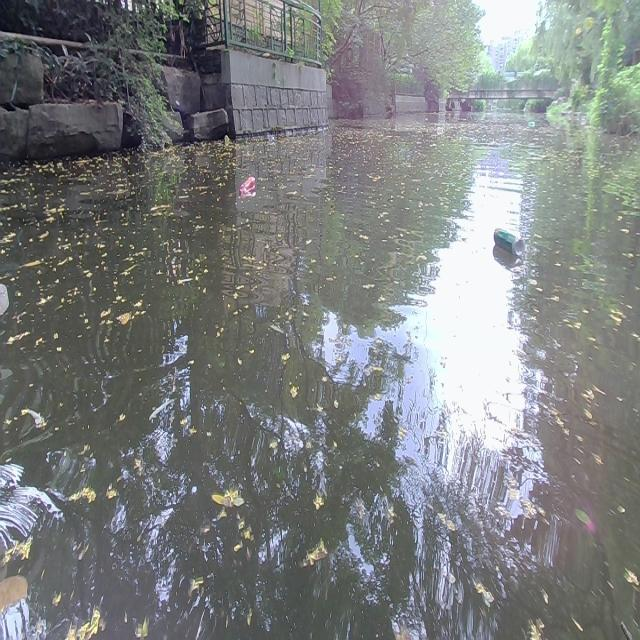bottle: (492, 226, 524, 258), (240, 170, 254, 197), (528, 119, 536, 129), (268, 131, 274, 141)
